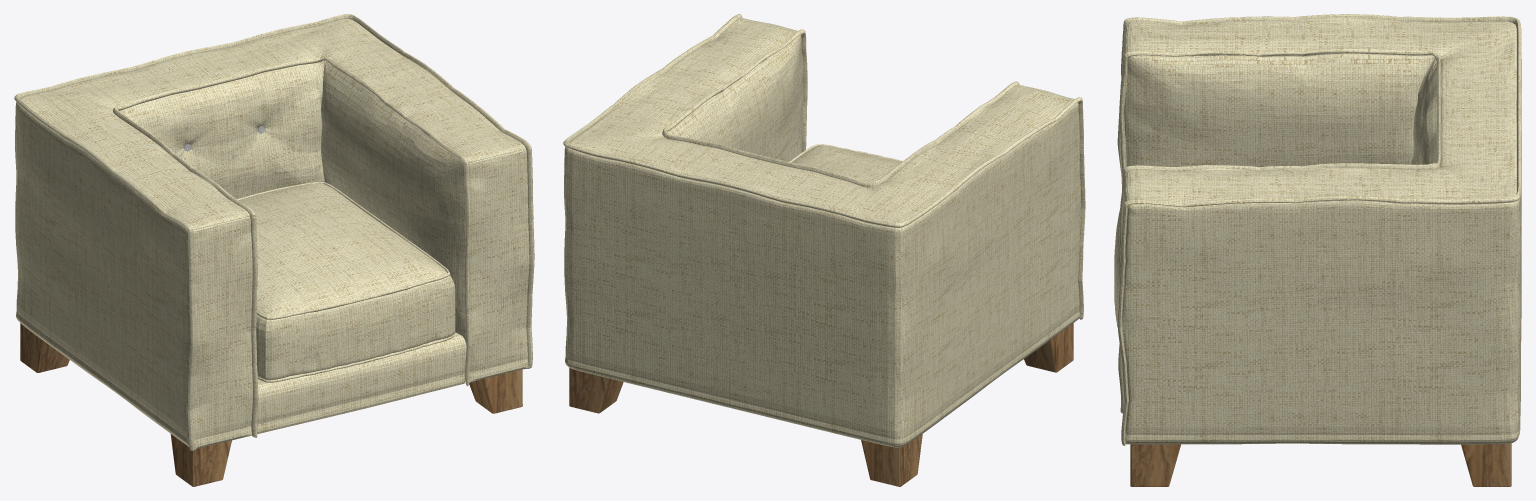
The model's file is armchair.gltf.
The picture shows the model from 3 angles, left to right: view 1: azimuth 30°, elevation 25°; view 2: azimuth 150°, elevation 25°; view 3: azimuth 270°, elevation 25°; orthographic projection. The views are drawn at different scales.
Visible parts, largest first — view 1: Box001, Object004, Object005, Box002; view 2: Box001, Box002, Object004; view 3: Box001, Box002, Object004.
Part boxes in pixels (left/top/right/bottom): Box001: left=14, top=14, right=534, bottom=450; Object004: left=237, top=182, right=455, bottom=382; Object005: left=257, top=332, right=466, bottom=434; Box002: left=20, top=323, right=522, bottom=486; Box001: left=563, top=14, right=1085, bottom=447; Box002: left=569, top=323, right=1073, bottom=486; Object004: left=789, top=144, right=902, bottom=182; Box001: left=1117, top=14, right=1521, bottom=445; Box002: left=1130, top=443, right=1511, bottom=486; Object004: left=1114, top=208, right=1120, bottom=326.
Size of the model in its own units: 1019 by 753 by 948.
3 materials, 3 textured.
